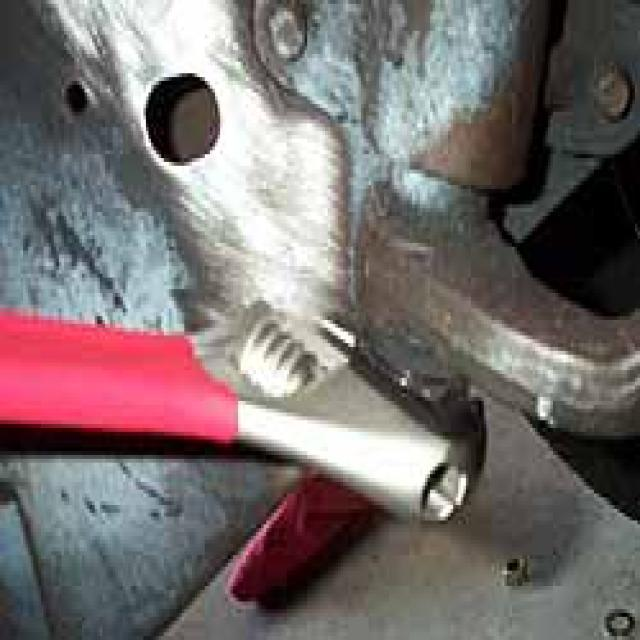wrench: (0, 255, 499, 532)
